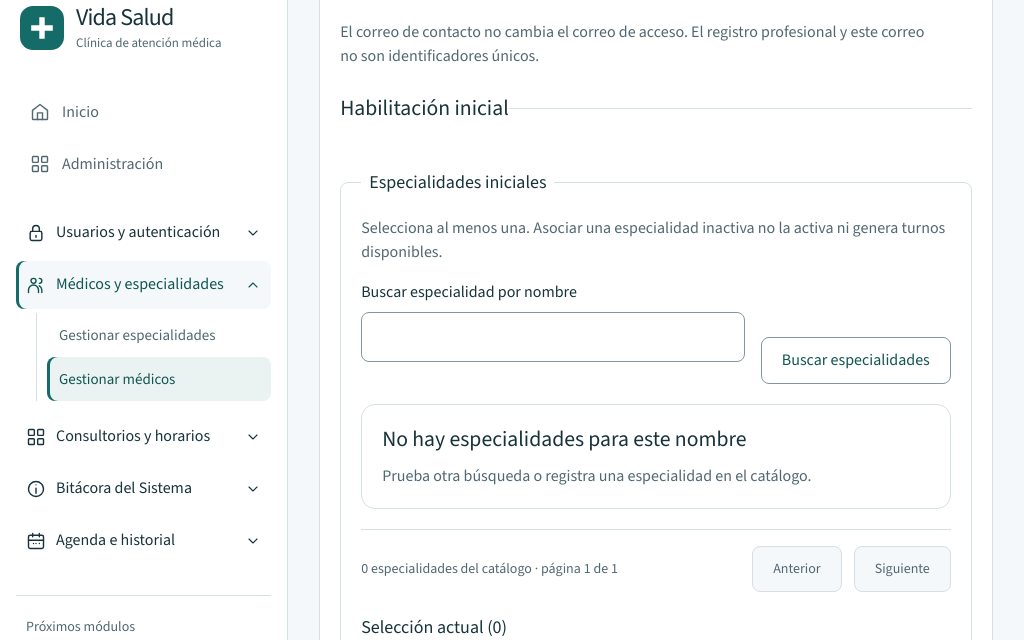
Test: datos profesionales y alta CU-10 fase 3 › catálogo vacío y fallo no permiten inventar IDs, se puede reconsultar manualmente
This screenshot has width=1024, height=640.
(page scrolled)
Check: the heading "No hay especialidades para este nombre" is shown, box left=382, top=424, right=746, bottom=453
What coordinates should you click on to do the following:
click the button "Buscar especialidades"
I would click on:
 (856, 360)
Its box is left=761, top=337, right=951, bottom=384.
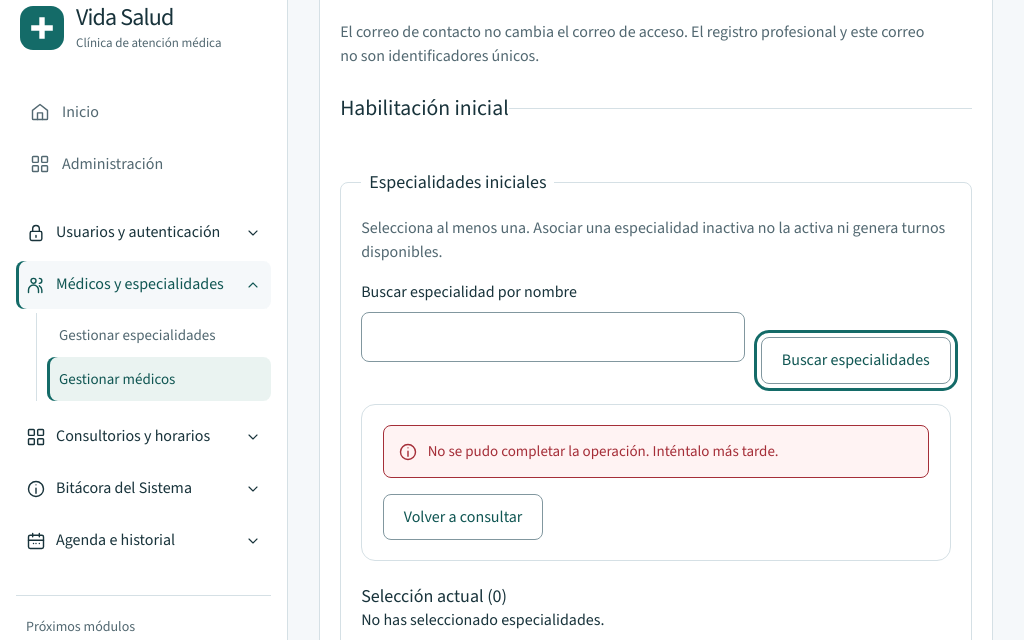
Check: the message "No se pudo completar la operación. Inténtalo más tarde." is shown, box left=383, top=425, right=929, bottom=478
What coordinates should you click on to do the following:
click the button "Volver a consultar"
I would click on:
 (463, 517)
Its box is left=383, top=494, right=543, bottom=540.
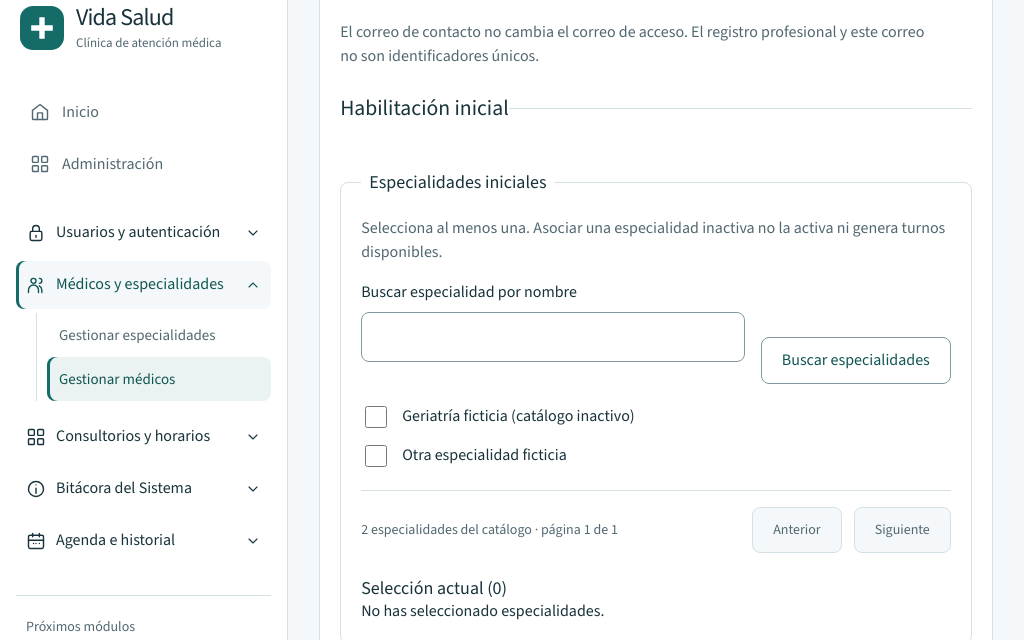
Check: the checkbox labelled "Otra especialidad ficticia" is shown, box left=365, top=445, right=387, bottom=467
